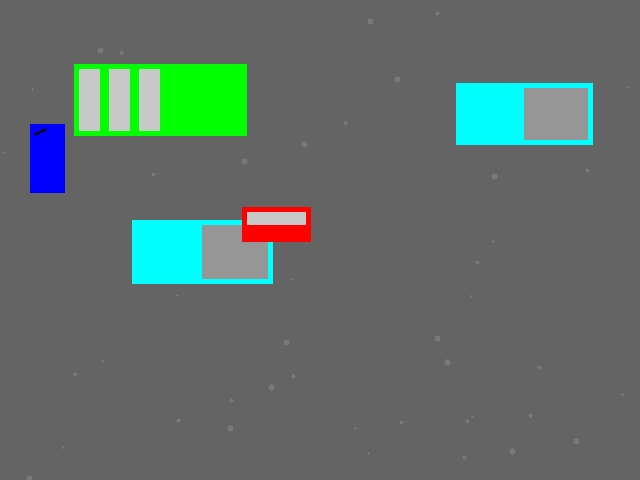bus: (74, 64, 246, 135)
car: (242, 207, 310, 241)
motorcycle: (30, 124, 64, 192)
truck: (132, 220, 272, 283), (456, 83, 592, 144)
